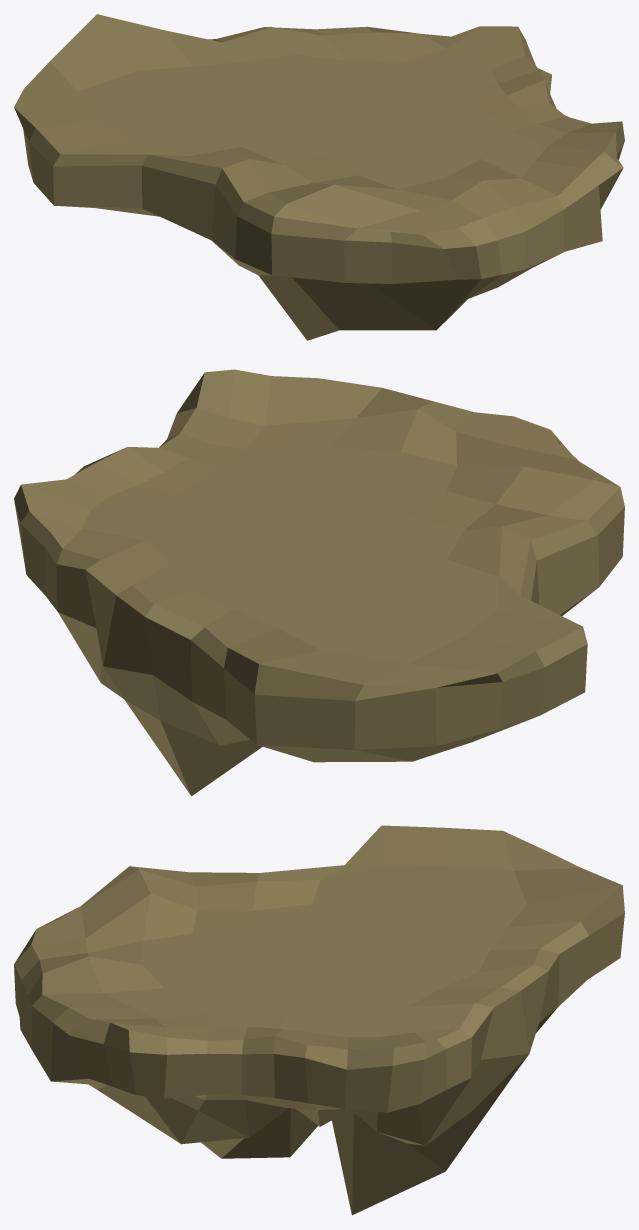
Rendered from Island2.fbx.
3 views of the same model, one above another, from view 1: azimuth 30°, elevation 25°; view 2: azimuth 150°, elevation 25°; view 3: azimuth 270°, elevation 25° (orthographic). The views are drawn at different scales.
Parts seen in each view (by area): view 1: Isla2; view 2: Isla2; view 3: Isla2.
Part boxes in pixels (box(x1,y1,x2,y2)): Isla2: box(14, 14, 624, 340); Isla2: box(14, 369, 624, 796); Isla2: box(14, 825, 624, 1215).
Bounding box in the file's own units: 7402 × 3508 × 7991.
